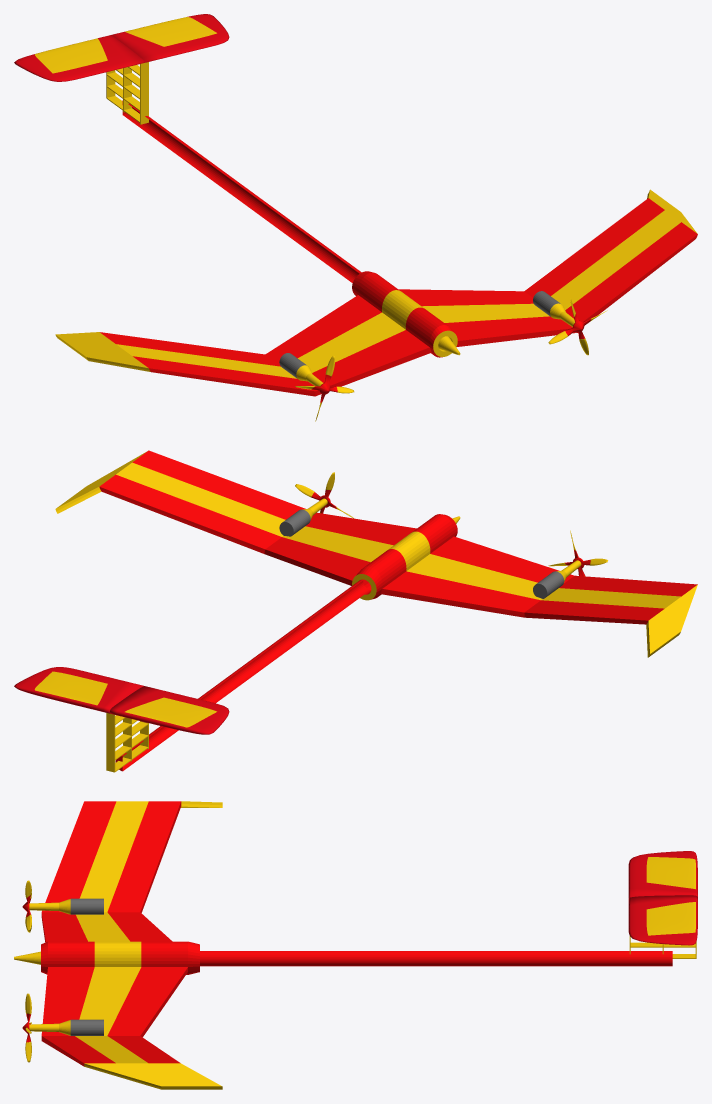
3 renders of one model, top to bottom at view 1: azimuth 30°, elevation 25°; view 2: azimuth 150°, elevation 25°; view 3: azimuth 270°, elevation 25°, orthographic. The views are drawn at different scales.
Visible parts, largest first — view 1: Cylinder.011, Cylinder.031, Shelves2, Cylinder.010, Cylinder.033; view 2: Cylinder.011, Cylinder.031, Shelves2, Cylinder.010, Cylinder.033; view 3: Cylinder.011, Cylinder.031, Shelves2, Cylinder.033, Cylinder.010.
Part boxes in pixels (x1,y1,x2,y2): Cylinder.011: [55, 189, 697, 396]; Cylinder.031: [265, 271, 575, 396]; Shelves2: [14, 14, 361, 282]; Cylinder.010: [533, 291, 574, 326]; Cylinder.033: [279, 353, 323, 386]; Cylinder.011: [55, 450, 697, 657]; Cylinder.031: [264, 512, 574, 617]; Shelves2: [14, 579, 368, 772]; Cylinder.010: [279, 498, 327, 536]; Cylinder.033: [533, 560, 581, 598]; Cylinder.011: [41, 801, 222, 1089]; Cylinder.031: [14, 912, 199, 1037]; Shelves2: [200, 851, 697, 966]; Cylinder.033: [29, 898, 103, 914]; Cylinder.010: [29, 1019, 103, 1035].
Size of the model in its own units: 1978 by 332 by 2013.
